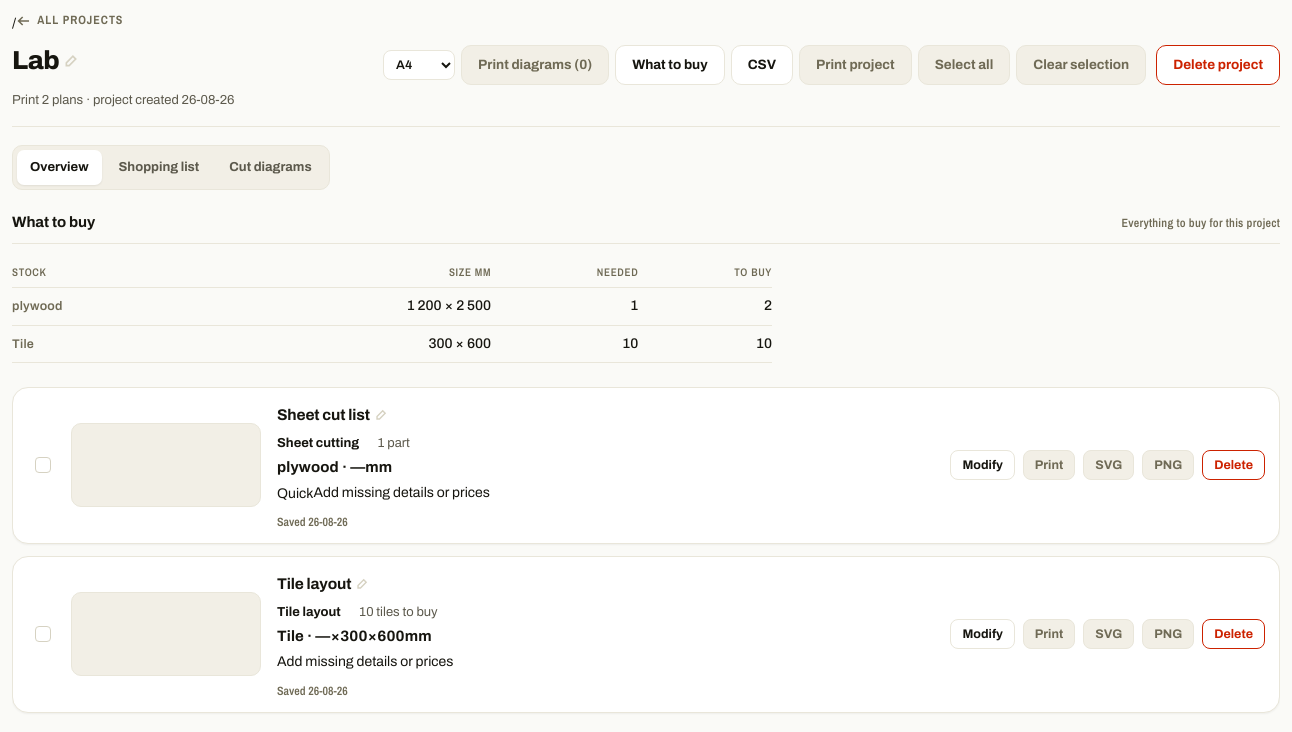
Test: routes saved sheet and tile plans to their optimizers
Click the button "Modify" in the row of "plywood · —mm" at [983, 465], box [950,450,1015,480]
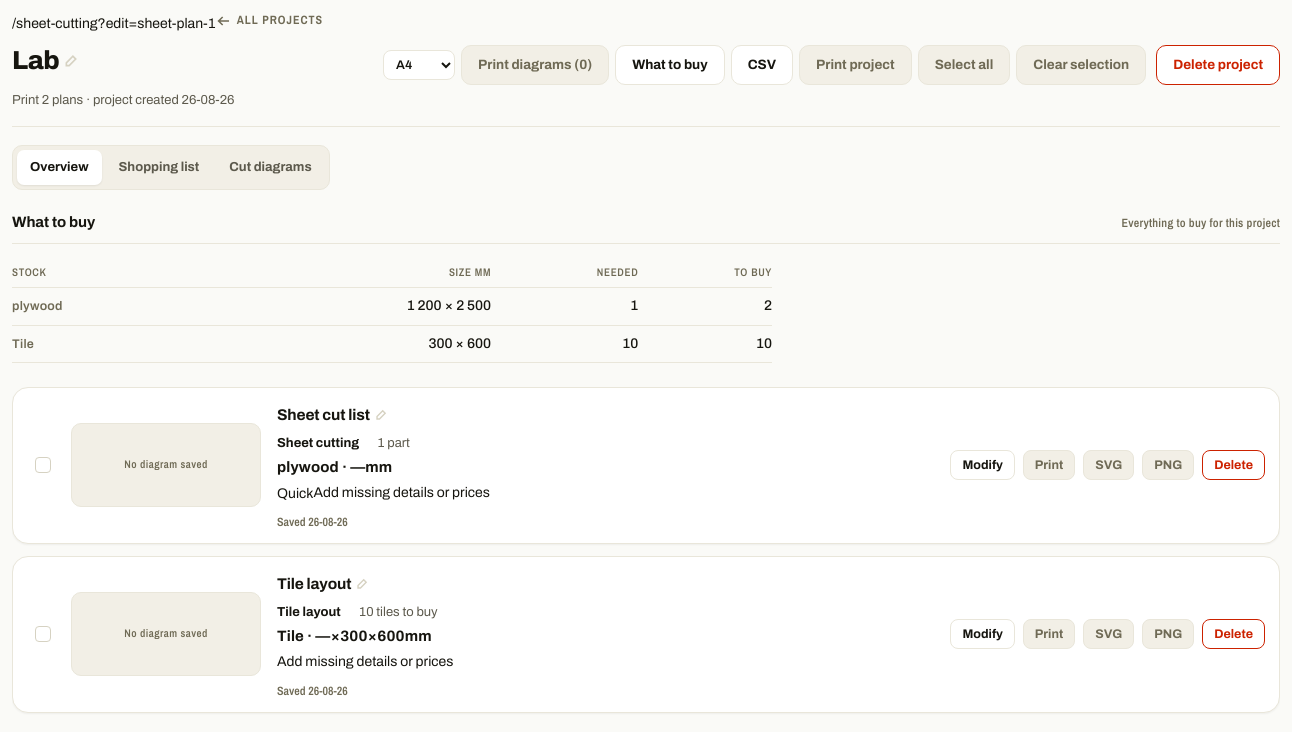
expect the text with test id "location" reads "/sheet-cutting?edit=sheet-plan-1": met, box [12,16,216,31]
Click the button "Modify" in the row of "Tile · —×300×600mm" at [983, 634], box [950,619,1015,649]
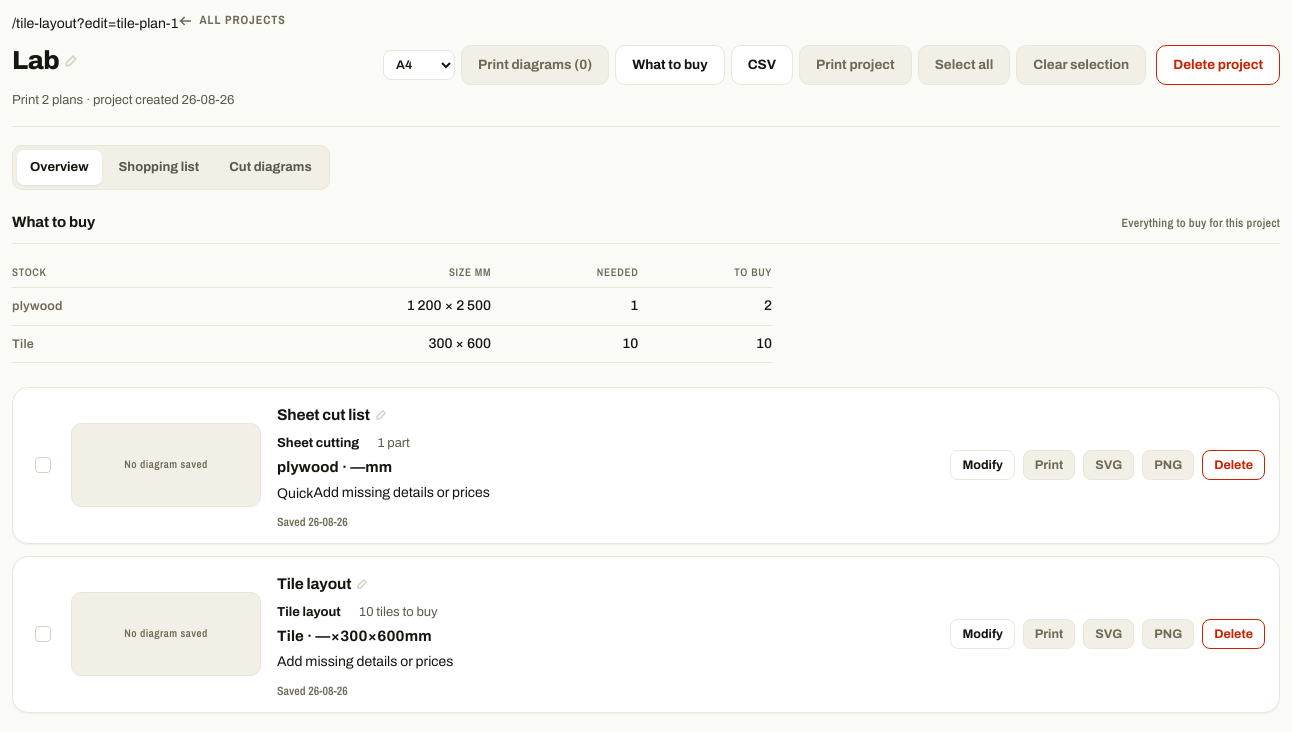
expect the text with test id "location" reads "/tile-layout?edit=tile-plan-1": met, box [12,16,178,31]
